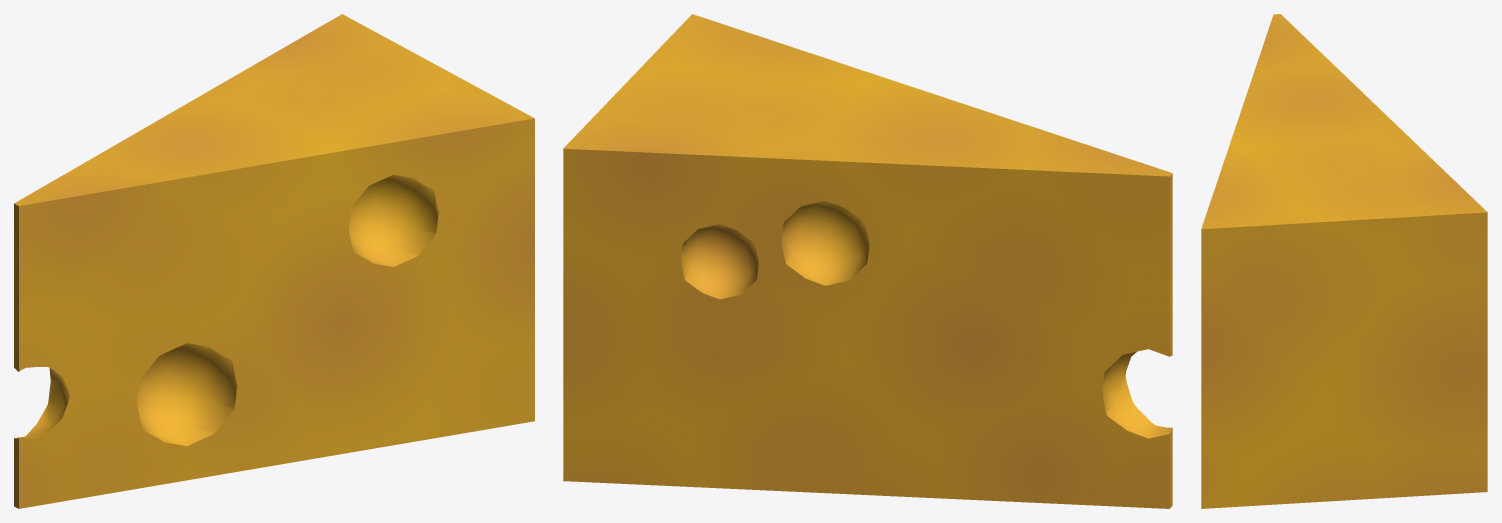
The model's file is cheese.fbx.
The picture shows the model from 3 angles, left to right: view 1: azimuth 30°, elevation 25°; view 2: azimuth 150°, elevation 25°; view 3: azimuth 270°, elevation 25°; orthographic projection. The views are drawn at different scales.
Visible parts, largest first — view 1: Cheese; view 2: Cheese; view 3: Cheese.
Part boxes in pixels (x1,y1,x2,y2): Cheese: (14, 14, 534, 508); Cheese: (563, 14, 1172, 508); Cheese: (1201, 14, 1487, 508).
Bounding box in the file's own units: 0.1752 × 0.3116 × 0.1887.
Materials: 1 (1 with a texture image).
